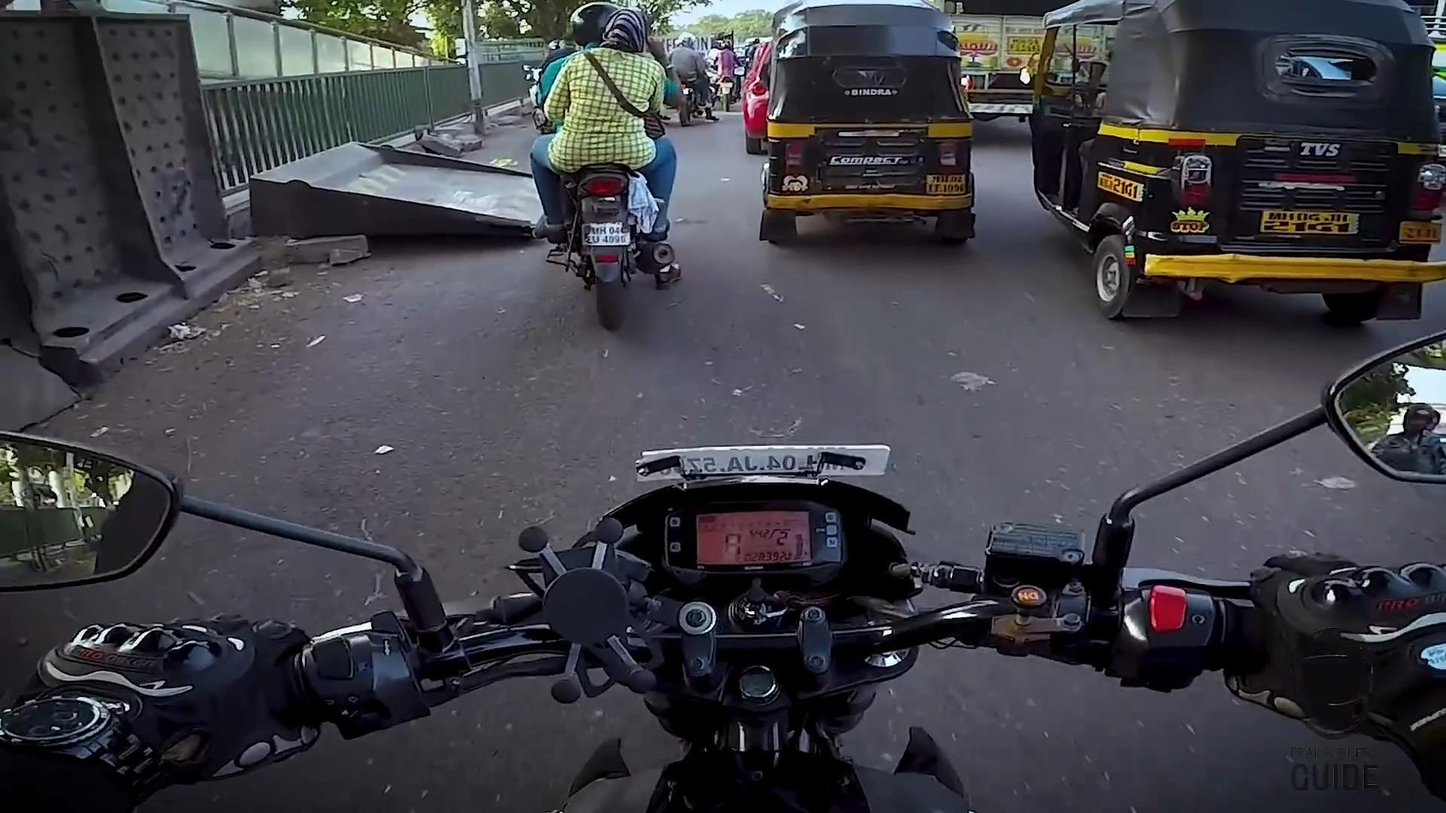Helmet: (560, 0, 628, 58)
bike: (524, 67, 677, 328)
no-helmet: (596, 2, 656, 60)
rider: (532, 6, 676, 240)
